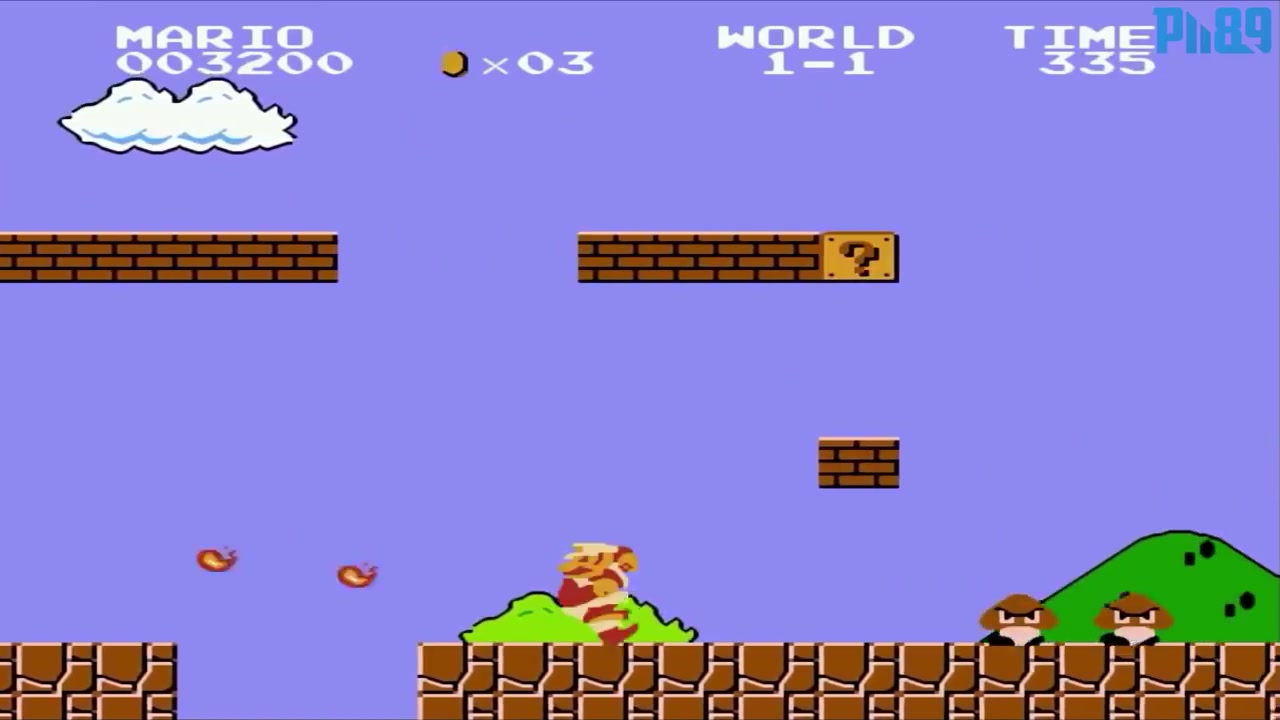mario: (551, 535, 645, 644)
